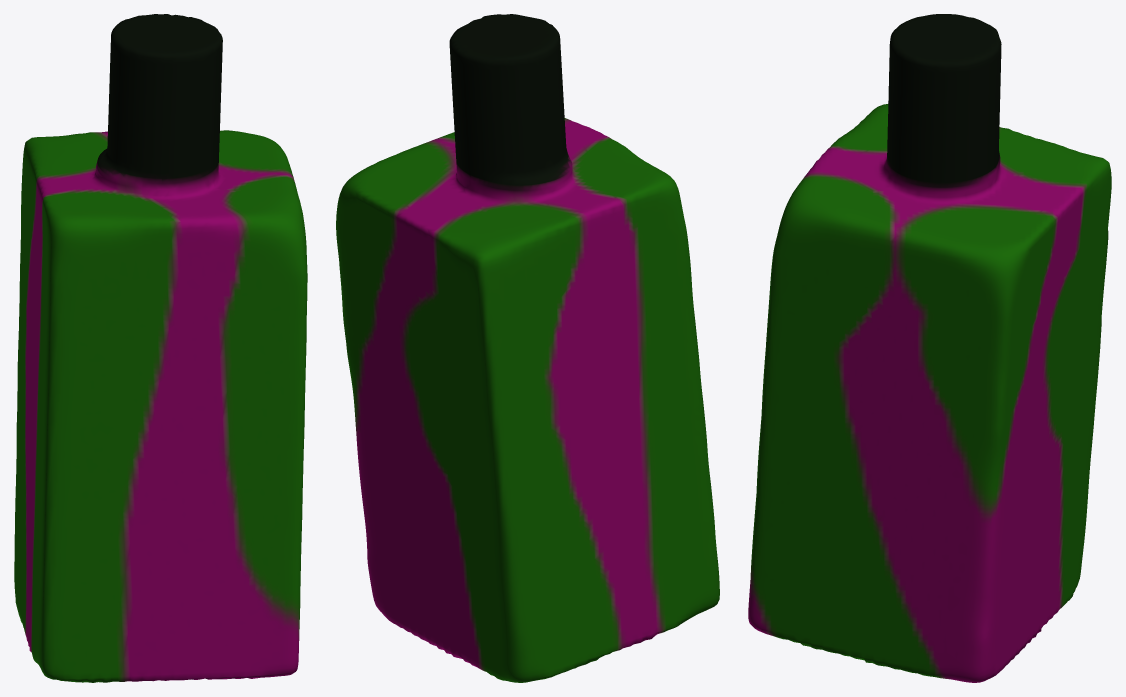
3 renders of one model, left to right at view 1: azimuth 30°, elevation 25°; view 2: azimuth 150°, elevation 25°; view 3: azimuth 270°, elevation 25°, orthographic.
Parts seen in each view (by area): view 1: ReferenceModel_Selection_18; view 2: ReferenceModel_Selection_18; view 3: ReferenceModel_Selection_18.
Part boxes in pixels (left/top/right/bottom): ReferenceModel_Selection_18: left=14, top=14, right=307, bottom=682; ReferenceModel_Selection_18: left=336, top=14, right=719, bottom=682; ReferenceModel_Selection_18: left=748, top=14, right=1111, bottom=682.
Bounding box in the file's own units: 24.91 × 45.79 × 25.27.
